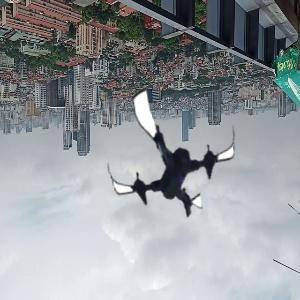drone: (101, 83, 242, 224)
